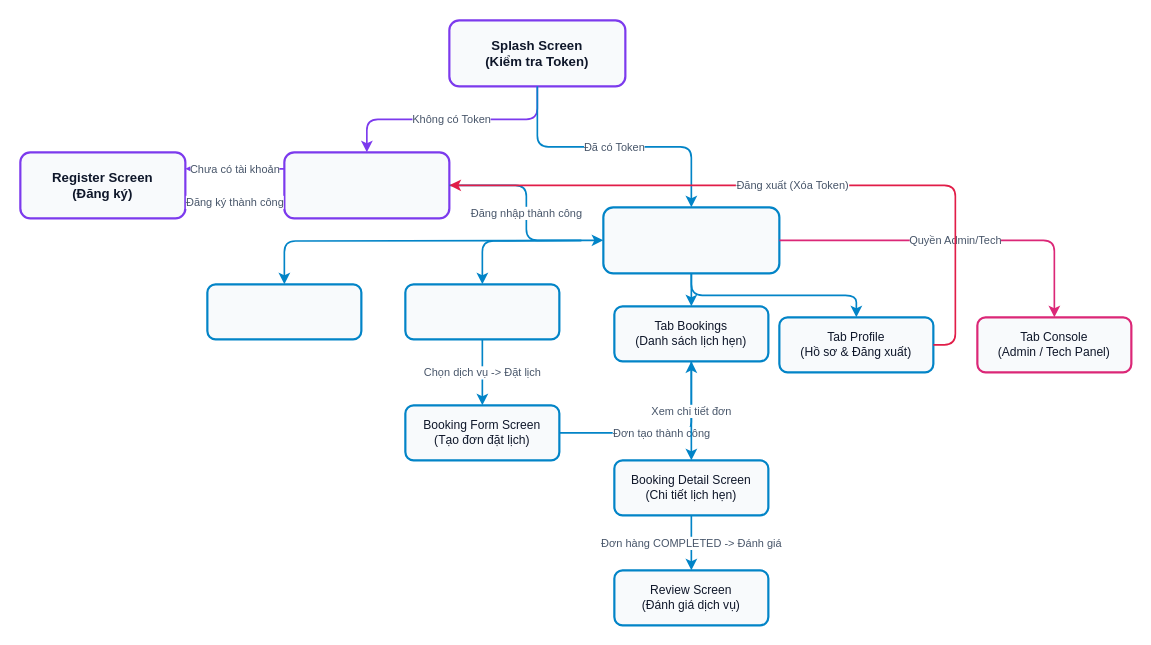
Image size: 1151x645. Some labels were removed from this diagram. Each missing label, with the centre of its shape:
"Login Screen (Đăng nhập)" goes at (366,185).
"Main Host Screen (NavHost Container)" goes at (691,240).
"Tab Home (Dashboard tổng quan)" goes at (284,311).
"Tab Services (Danh mục dịch vụ)" goes at (482,311).
